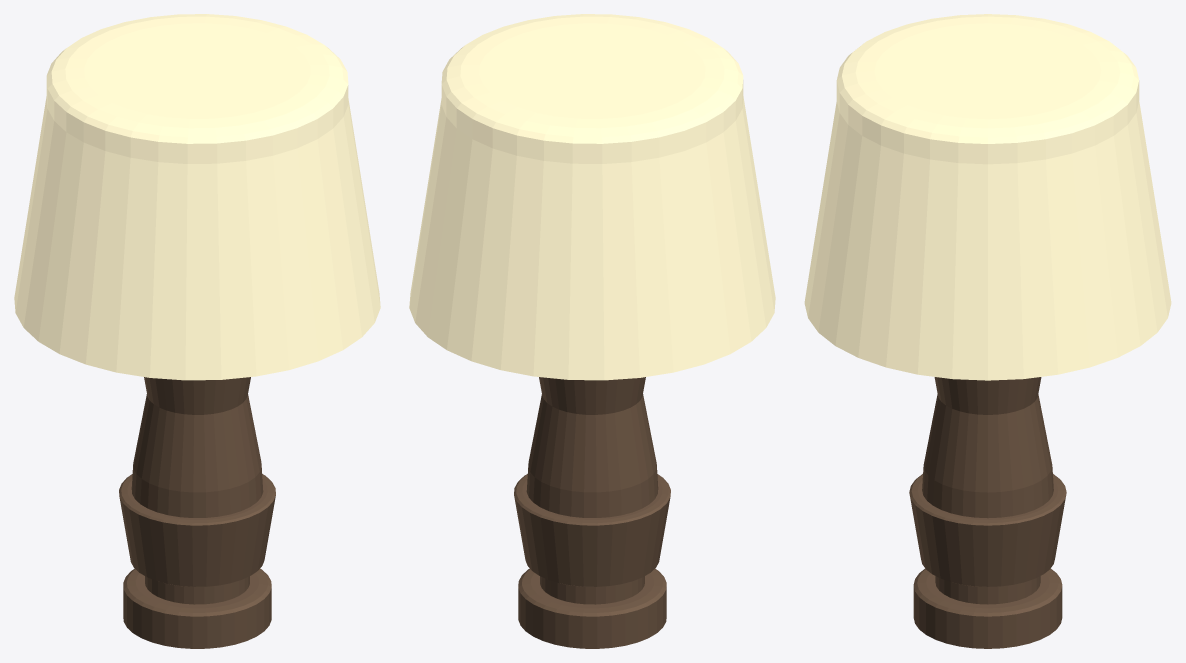
The model's file is lampe.fbx.
The picture shows the model from 3 angles, left to right: view 1: azimuth 30°, elevation 25°; view 2: azimuth 150°, elevation 25°; view 3: azimuth 270°, elevation 25°; orthographic projection.
Visible parts, largest first — view 1: Cylinder.010; view 2: Cylinder.010; view 3: Cylinder.010.
Boxes of the visible parts, x1,y1,x2,y2 form: Cylinder.010: [14, 14, 380, 648]; Cylinder.010: [409, 14, 775, 648]; Cylinder.010: [804, 14, 1171, 648].
Size of the model in its own units: 41.17 by 67.6 by 41.17.
